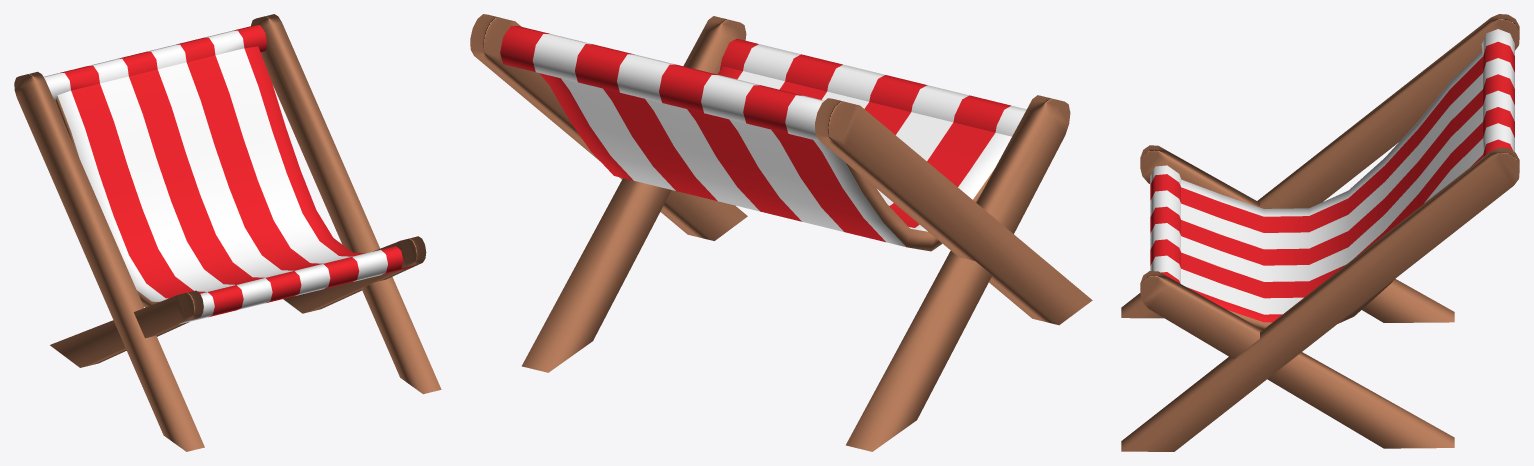
Rendered from deck_chair_red.fbx.
3 views of the same model, side by side, from view 1: azimuth 30°, elevation 25°; view 2: azimuth 150°, elevation 25°; view 3: azimuth 270°, elevation 25° (orthographic). The views are drawn at different scales.
Parts seen in each view (by area): view 1: deck_chair_red; view 2: deck_chair_red; view 3: deck_chair_red.
Boxes of the visible parts, x1,y1,x2,y2 form: deck_chair_red: (14,14,441,451); deck_chair_red: (470,14,1092,451); deck_chair_red: (1121,14,1519,451).
Bounding box in the file's own units: 0.7386 × 0.7048 × 0.8637.
